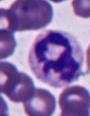N: (28, 29, 84, 87)
